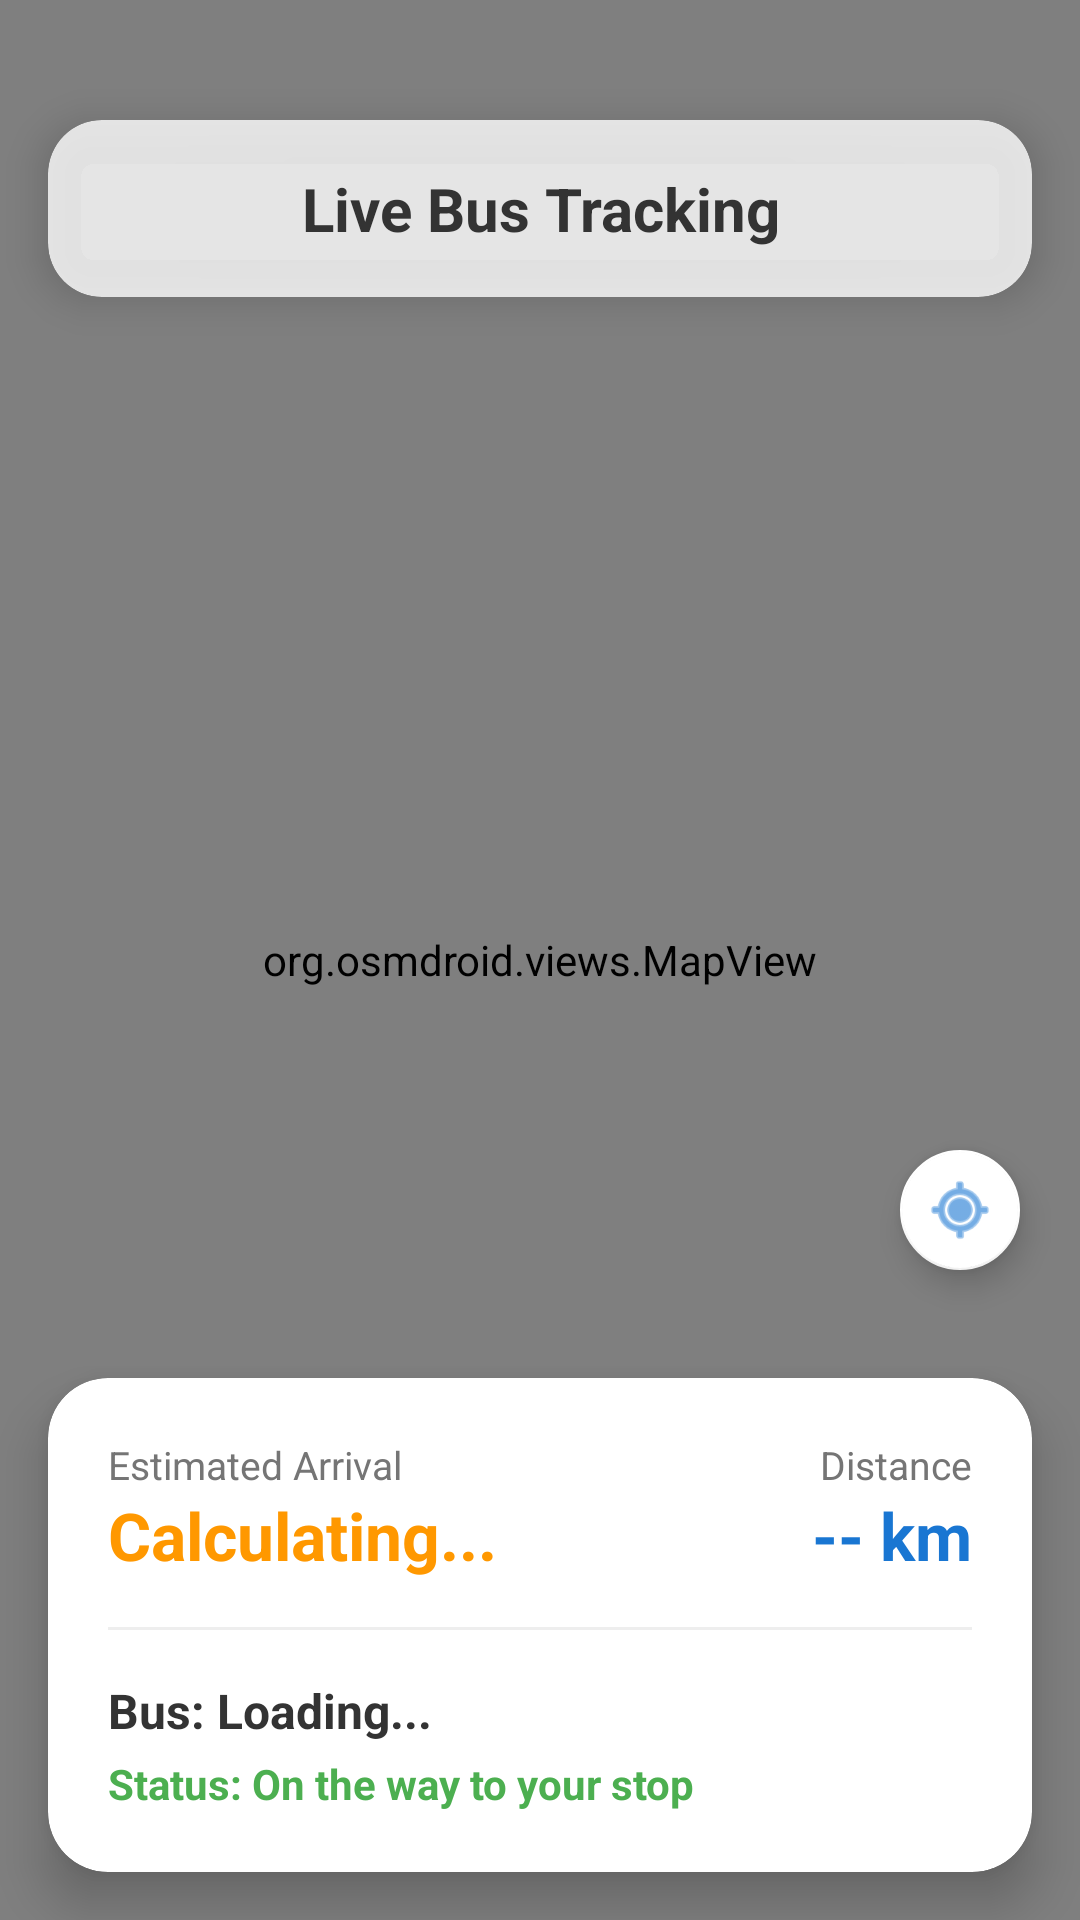

Named icons in this screenshot (1080×1920) and their bounding boxes, detection(x1, y1, x2, y2):
mylocation: detection(900, 1150, 1020, 1270)
